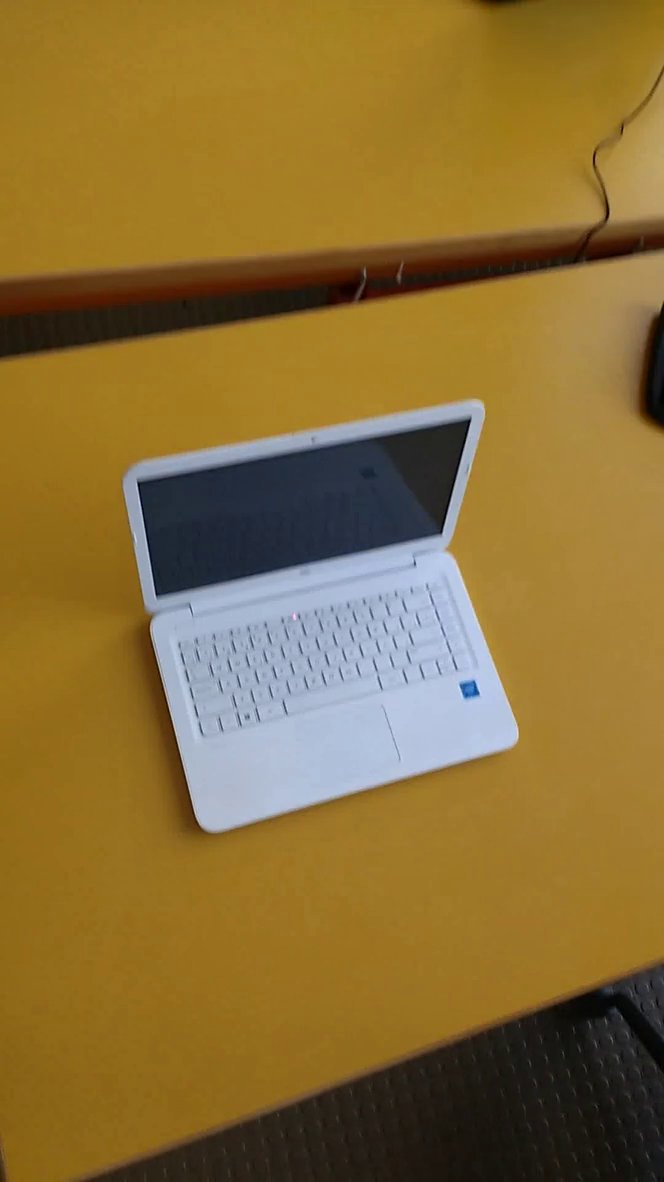laptop: (116, 389, 527, 847)
